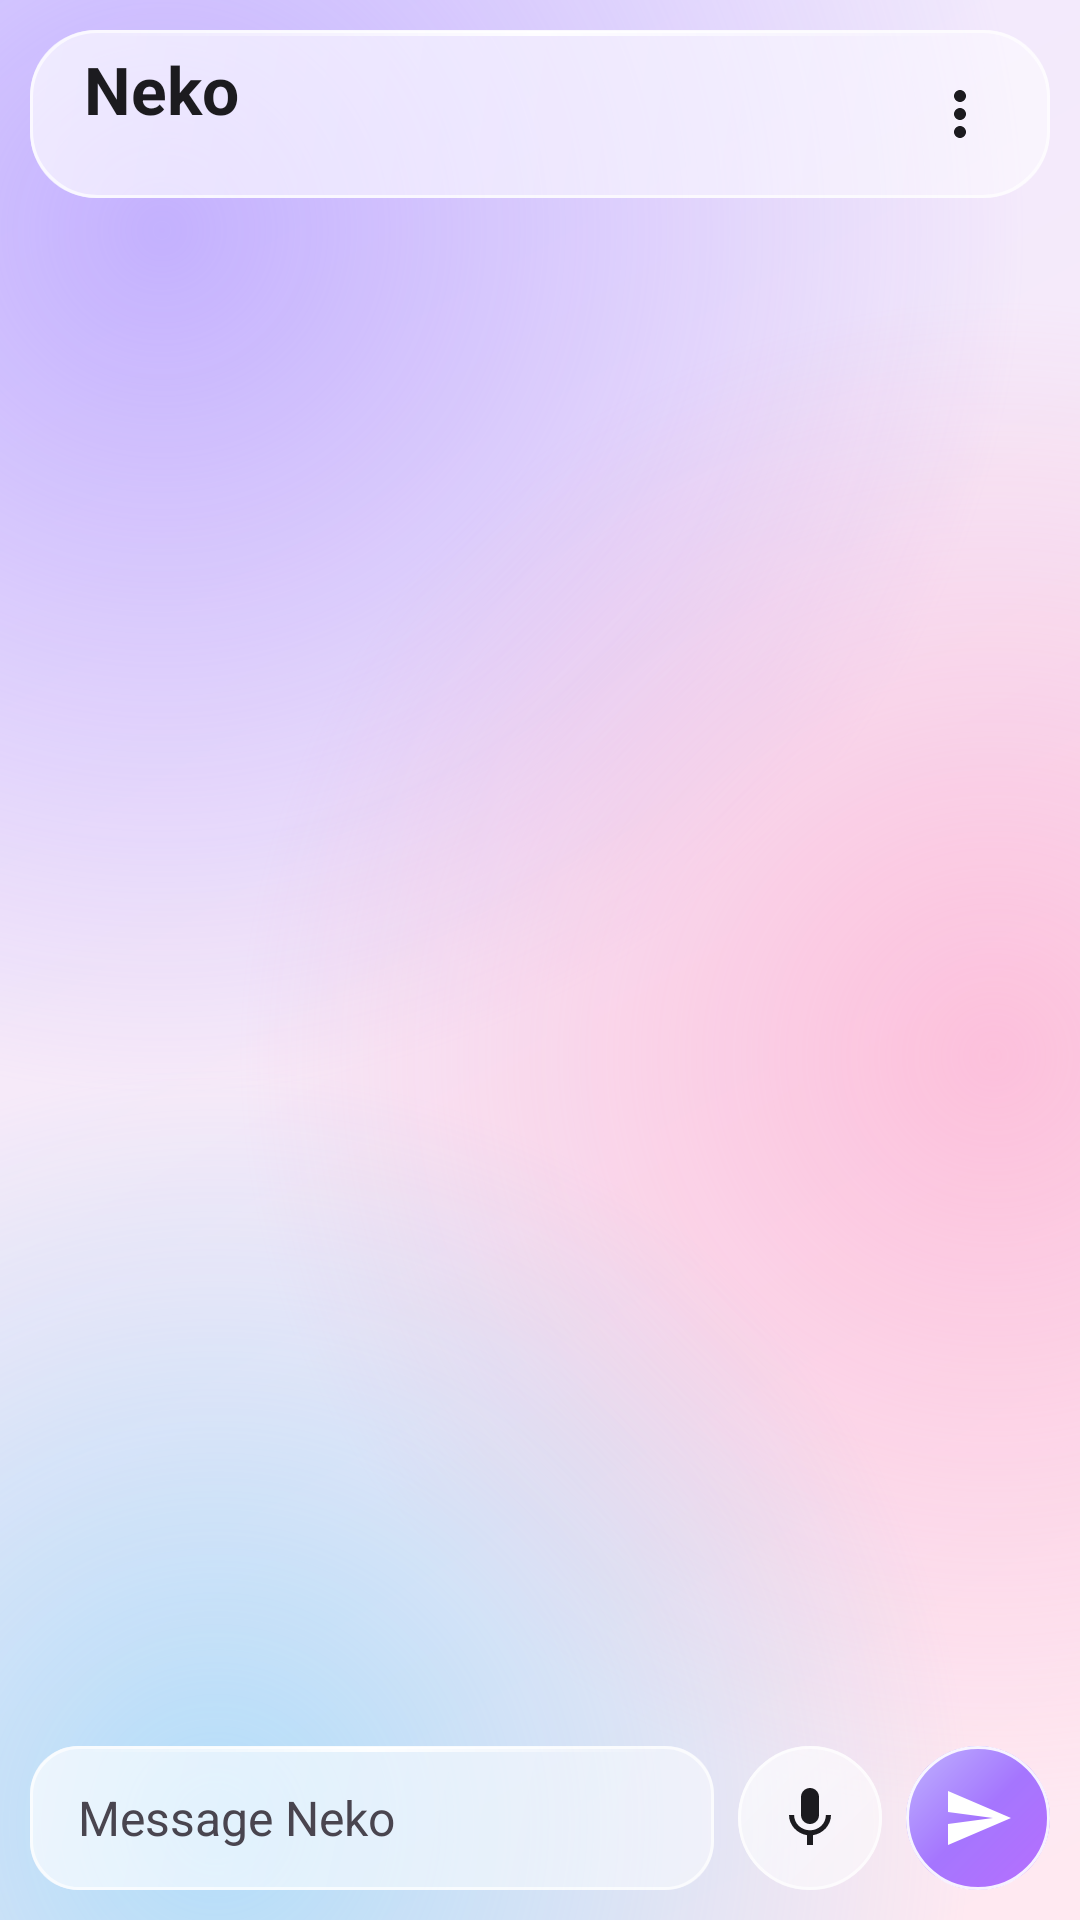

Screen size 1080px x 1920px. Icon name, then its box in pixels as (x1, y1, x2, y2):
Menu: (954, 90, 966, 138)
Send: (906, 1749, 1047, 1887)
Voice input: (738, 1746, 882, 1890)
